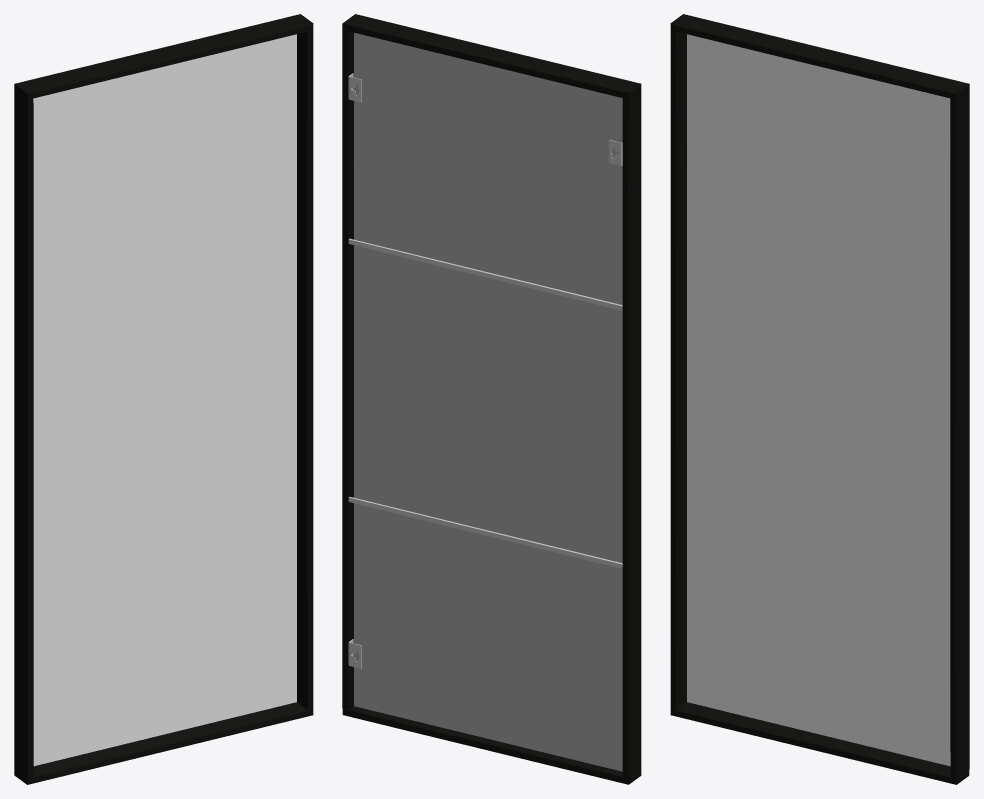
The picture shows the model from 3 angles, left to right: view 1: azimuth 30°, elevation 25°; view 2: azimuth 150°, elevation 25°; view 3: azimuth 330°, elevation 25°; orthographic projection.
Parts seen in each view (by area): view 1: 70320319-NISSEDAL001; view 2: 70320319-NISSEDAL001; view 3: 70320319-NISSEDAL001.
Part boxes in pixels (x1=…): 70320319-NISSEDAL001: x1=14, y1=14, x2=313, y2=784; 70320319-NISSEDAL001: x1=342, y1=14, x2=641, y2=784; 70320319-NISSEDAL001: x1=670, y1=14, x2=969, y2=784.
Bounding box in the file's own units: 0.6499 × 1.5 × 0.0535.
1 material, 1 textured.
